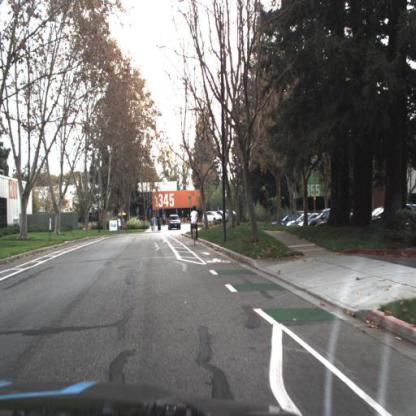biker: (191, 203, 201, 244), (191, 204, 200, 245)
car: (309, 207, 334, 228), (272, 211, 297, 227), (166, 212, 183, 232), (287, 211, 308, 227)
pedestrian: (151, 215, 163, 233)
